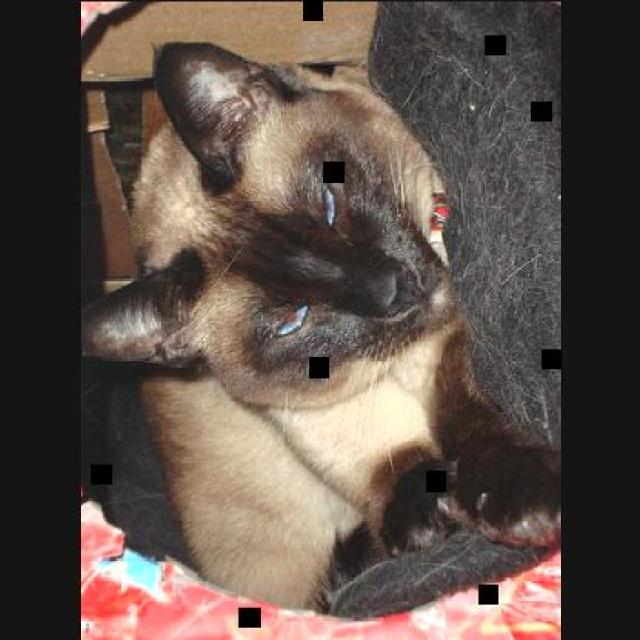unauthorized: (80, 39, 558, 618)
